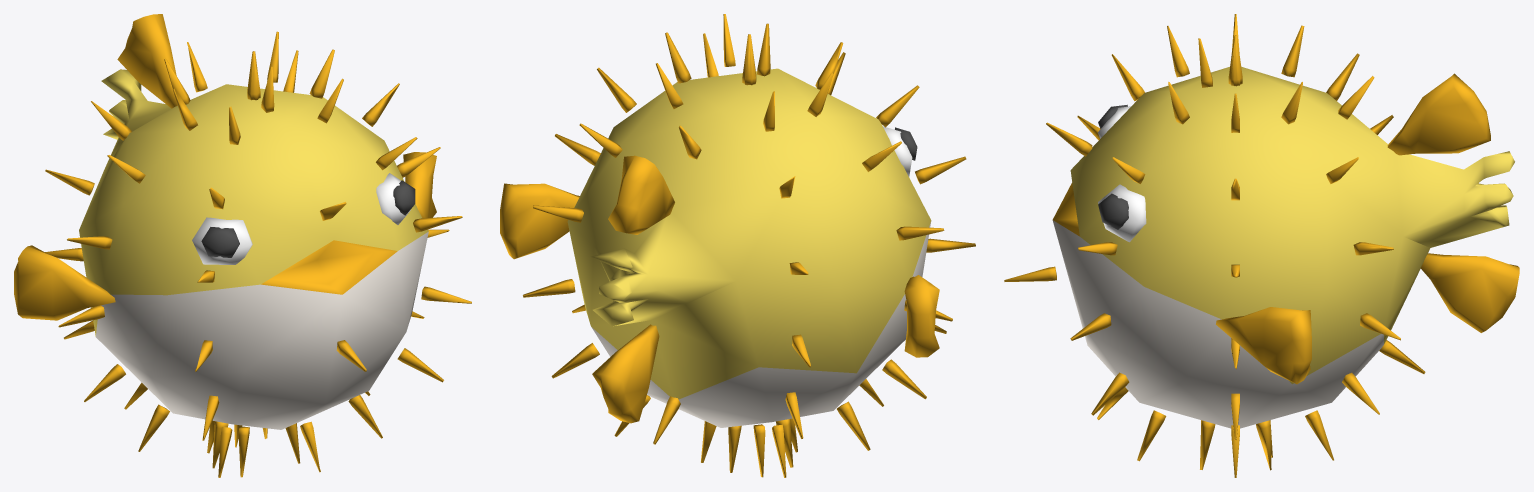
File: animals-pufferfish-160.glb
3 renders of one model, left to right at view 1: azimuth 30°, elevation 25°; view 2: azimuth 150°, elevation 25°; view 3: azimuth 270°, elevation 25°, orthographic. The views are drawn at different scales.
Parts seen in each view (by area): view 1: Cloner.4; view 2: Cloner.4; view 3: Cloner.4.
Part boxes in pixels (<box>): Cloner.4: <box>14,14,471,477</box>; Cloner.4: <box>500,14,975,477</box>; Cloner.4: <box>1004,14,1519,477</box>.
Size of the model in its own units: 382 by 356 by 394.
